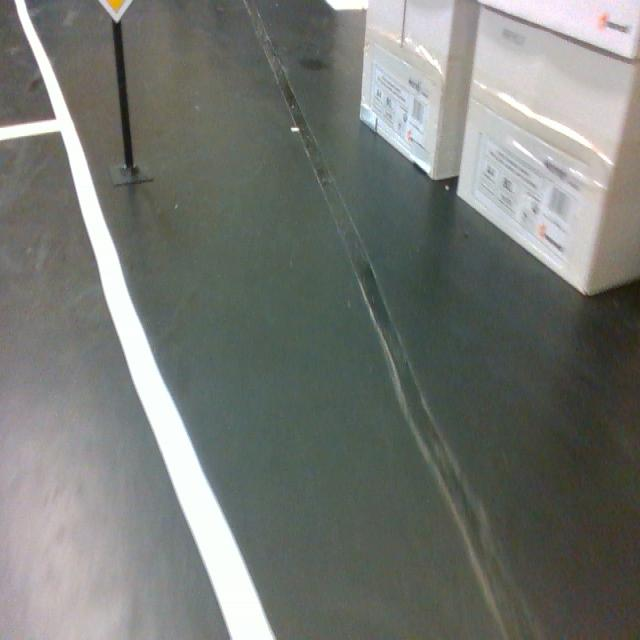priority-sign: (96, 0, 133, 24)
